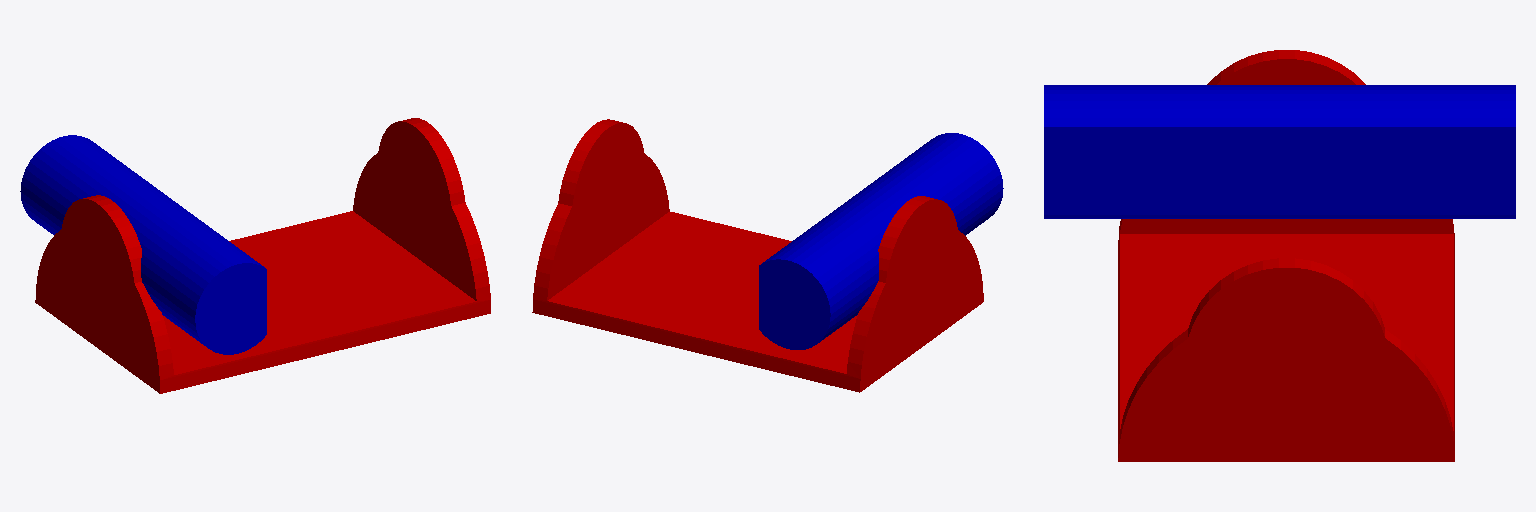
The robot description file, URDF, robot "camera_sweep":
<robot name="camera_sweep">

  <link name="camera_base">
    <visual>
      <origin rpy="0 0 0" xyz="0 -0.0364 0"/>
      <geometry>
        <mesh filename="package://ros_camera_sweep/meshes/frame.stl"/>
      </geometry>
      <material name="red">
        <color rgba="0.8 0 0 1"/>
      </material>
    </visual>
  </link>

  <joint name="camera_base_to_camera_link_joint" type="floating">
    <parent link="camera_base"/>
    <child link="camera_mount"/>
    <origin xyz="-0.0364 0 0.0296"/>
  </joint>

  <link name="camera_mount">
    <visual>
      <origin rpy="1.5708 0 1.5708" xyz="-0.0296 0 -0.0364"/>
      <geometry>
        <mesh filename="package://ros_camera_sweep/meshes/camera.stl"/>
      </geometry>
      <material name="blue">
        <color rgba="0 0 .8 1"/>
      </material>
    </visual>
  </link>

</robot>

--- What the picture shows (computed from the rendered views, not written in the file) ---
The picture shows the robot from 3 angles, left to right: view 1: azimuth 30°, elevation 25°; view 2: azimuth 150°, elevation 25°; view 3: azimuth 270°, elevation 25°; orthographic projection.
Model camera_sweep with 2 links and 1 joints (1 floating), rooted at camera_base, posed all joints at 0.
Visible links, largest first — view 1: camera_base, camera_mount; view 2: camera_base, camera_mount; view 3: camera_base, camera_mount.
Boxes of the visible links, x1,y1,x2,y2 form: camera_base: (35,118,490,393); camera_mount: (20,135,266,354); camera_base: (532,119,983,392); camera_mount: (759,133,1003,349); camera_base: (1118,50,1454,461); camera_mount: (1044,85,1515,218).
Size in the robot's own frame: 0.116 by 0.106 by 0.0483 metres.
2 mesh visuals loaded from 2 distinct referenced files (2 binary STL).